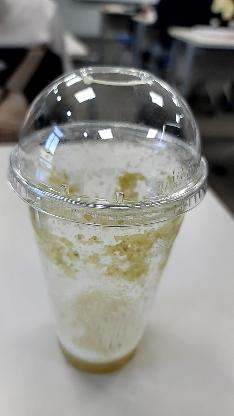Plastic Cup: (6, 66, 210, 376), (6, 65, 212, 230)
